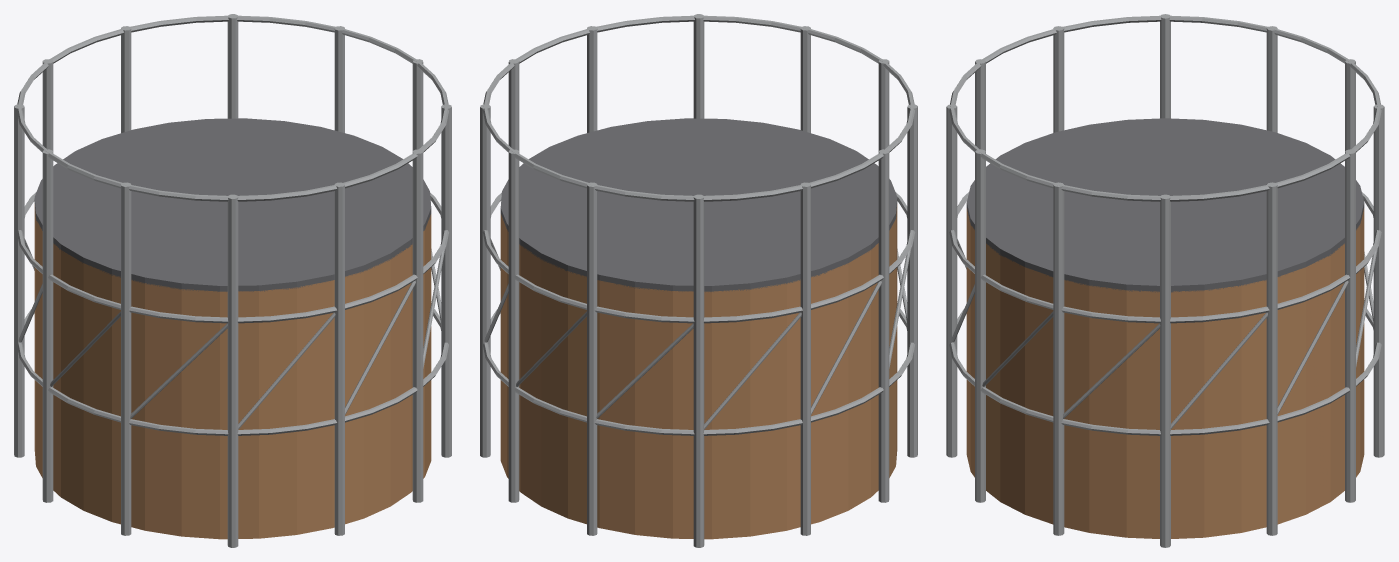
File: Gasometer.glb
3 renders of one model, left to right at view 1: azimuth 30°, elevation 25°; view 2: azimuth 150°, elevation 25°; view 3: azimuth 270°, elevation 25°, orthographic.
Parts seen in each view (by area): view 1: Gas holder, Holder crown, Guide ring.002, Member.032, Member.030, Member.034, Member.031, Member.033, Member.035, Member.029, Guide ring.001, Guide ring (+8 smaller); view 2: Gas holder, Holder crown, Guide ring.002, Member.028, Member.026, Member.030, Member.029, Member.027, Member.031, Member.025, Guide ring.001, Guide ring (+8 smaller); view 3: Gas holder, Holder crown, Guide ring.002, Member.025, Member.035, Member.024, Member.027, Member.033, Member.034, Member.026, Guide ring.001, Guide ring (+8 smaller).
Boxes of the visible parts, x1,y1,x2,y2 form: Gas holder: (34, 204, 431, 539); Holder crown: (34, 118, 431, 291); Guide ring.002: (17, 15, 448, 201); Member.032: (227, 194, 238, 547); Member.030: (42, 149, 53, 502); Member.034: (412, 149, 423, 502); Member.031: (121, 182, 131, 535); Member.033: (334, 182, 344, 535); Member.035: (441, 104, 451, 457); Member.029: (14, 104, 24, 457); Guide ring.001: (16, 192, 448, 323); Guide ring: (17, 309, 448, 435); Gas holder: (500, 204, 897, 539); Holder crown: (500, 118, 897, 292); Guide ring.002: (483, 15, 914, 201); Member.028: (693, 194, 704, 547); Member.026: (508, 149, 519, 502); Member.030: (878, 149, 889, 502); Member.029: (800, 182, 810, 535); Member.027: (587, 182, 597, 535); Member.031: (907, 104, 917, 457); Member.025: (480, 104, 490, 457); Guide ring.001: (483, 192, 915, 323); Guide ring: (483, 309, 914, 435); Gas holder: (966, 208, 1364, 538); Holder crown: (966, 118, 1364, 292); Guide ring.002: (949, 15, 1381, 201); Member.025: (1266, 182, 1277, 535); Member.035: (1053, 182, 1064, 535); Member.024: (1160, 194, 1170, 547); Member.027: (1373, 104, 1384, 457); Member.033: (946, 104, 957, 457); Member.034: (975, 149, 985, 502); Member.026: (1345, 149, 1355, 502); Guide ring.001: (949, 192, 1381, 323); Guide ring: (949, 309, 1381, 435).
Size of the model in its own units: 17.64 by 15.5 by 17.64.
